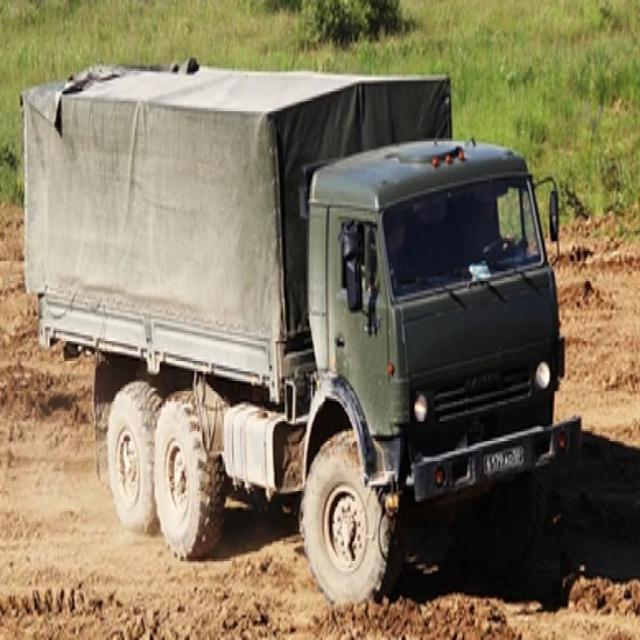TRUCK: (19, 54, 582, 618)
